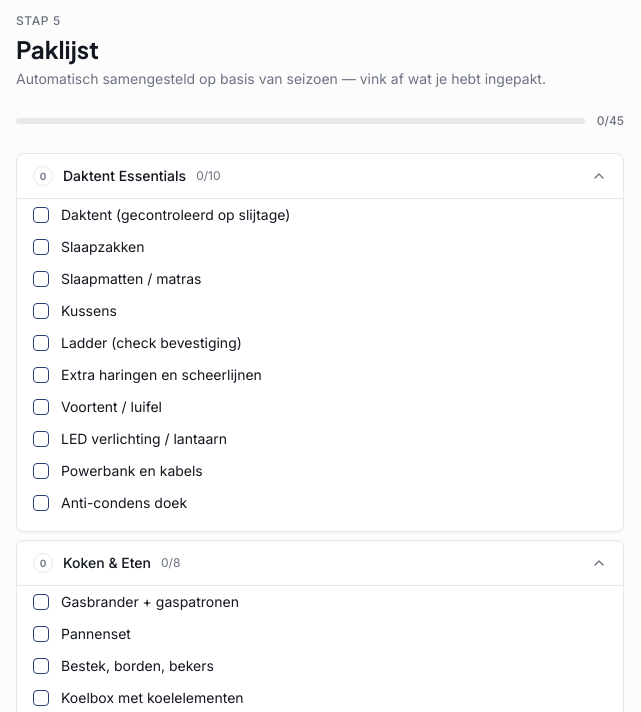
it: PackingChecklist › collapses and expands sections
The width and height of the screenshot is (641, 712).
Expected: the text "Slaapzakken" is shown, [61,237,144,257]
Click to collapse
Click the button "0 Daktent Essentials 0/10": {"x": 125, "y": 176} [17,154,623,198]
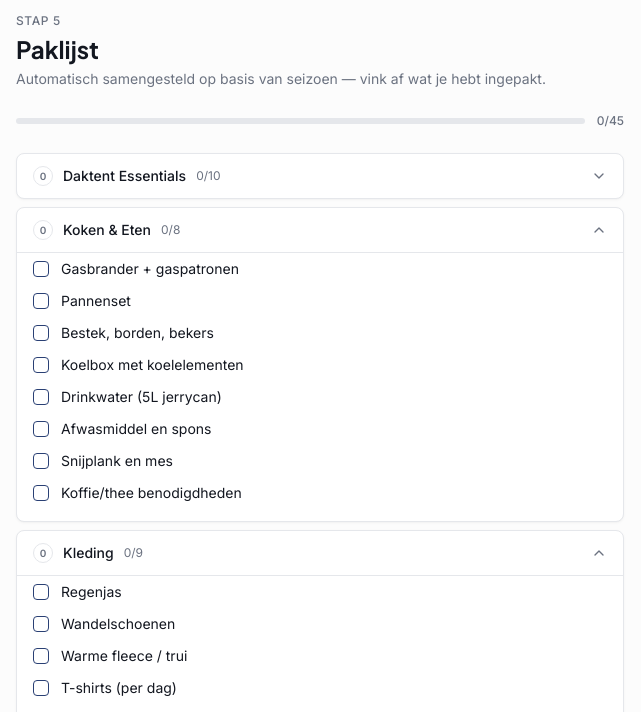
Result: the text "Slaapzakken" is gone
